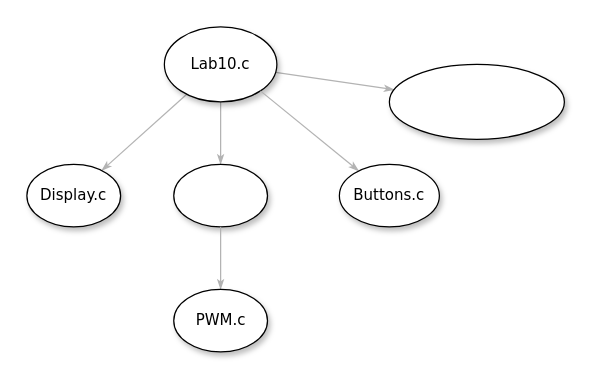
Some shapes in this 594 by 383 pixel diagram are drawn without their labels. Here are the shapes that lost their labels. From the top down, the centre of each, then its label:
At point (477, 103): "PulseWidthMeasure.c".
At point (221, 197): "Motor.c".
